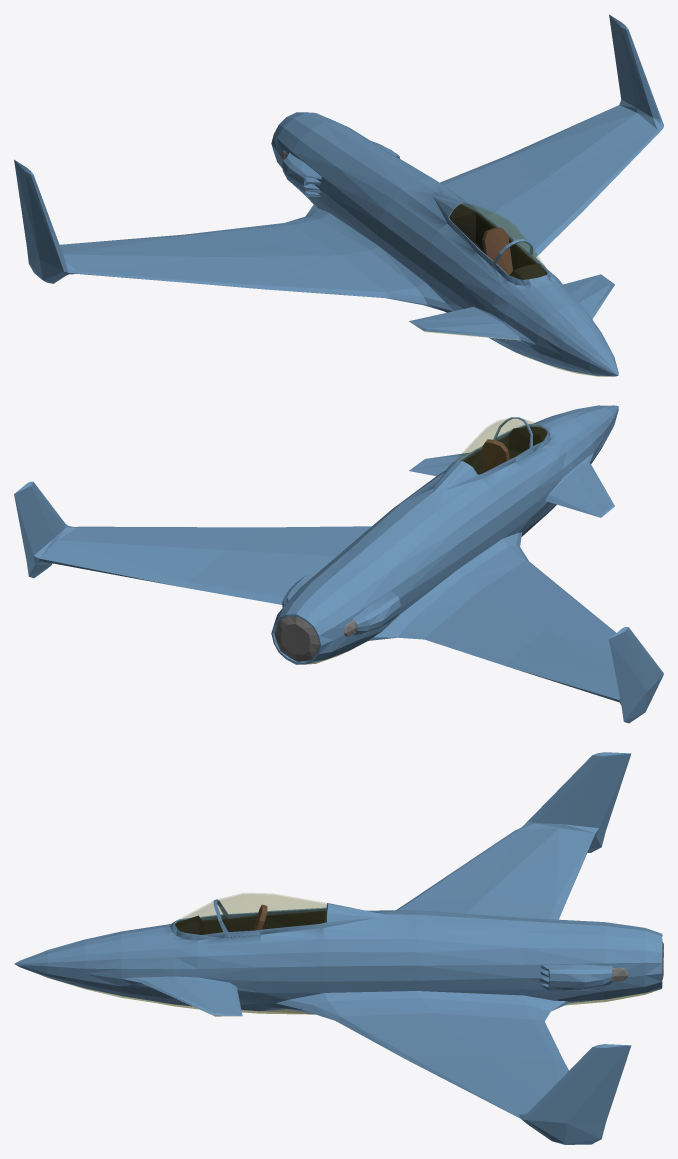
Rendered from aircraft_7_damage.glb.
The picture shows the model from 3 angles, top to bottom: view 1: azimuth 30°, elevation 25°; view 2: azimuth 150°, elevation 25°; view 3: azimuth 270°, elevation 25°; orthographic projection.
Visible parts, largest first — view 1: fuselage, WingBreakawayLeft, WingBreakawayRight, TailBreakaway, canopy glass, canopy frame, cockpit interior; view 2: fuselage, TailBreakaway, WingBreakawayLeft, WingBreakawayRight, canopy glass, canopy frame, cockpit interior; view 3: fuselage, WingBreakawayRight, TailBreakaway, WingBreakawayLeft, canopy glass, canopy frame, cockpit interior.
Part boxes in pixels (bbox=[...]): fuselage: bbox=[231, 150, 618, 376]; WingBreakawayLeft: bbox=[486, 14, 663, 223]; WingBreakawayRight: bbox=[14, 159, 292, 291]; TailBreakaway: bbox=[209, 112, 507, 243]; canopy glass: bbox=[450, 203, 546, 279]; canopy frame: bbox=[433, 191, 550, 285]; cockpit interior: bbox=[482, 227, 545, 279]; fuselage: bbox=[231, 405, 618, 637]; TailBreakaway: bbox=[208, 545, 507, 664]; WingBreakawayLeft: bbox=[14, 481, 289, 591]; WingBreakawayRight: bbox=[486, 595, 663, 723]; canopy glass: bbox=[454, 418, 546, 473]; canopy frame: bbox=[433, 417, 550, 491]; cockpit interior: bbox=[482, 427, 547, 470]; fuselage: bbox=[14, 909, 514, 1050]; WingBreakawayRight: bbox=[396, 752, 631, 916]; TailBreakaway: bbox=[514, 912, 663, 1052]; WingBreakawayLeft: bbox=[390, 1044, 631, 1144]; canopy glass: bbox=[175, 893, 327, 934]; canopy frame: bbox=[170, 899, 383, 940]; cockpit interior: bbox=[175, 904, 267, 934].
Size of the model in its own units: 13.14 by 2.41 by 12.11.
